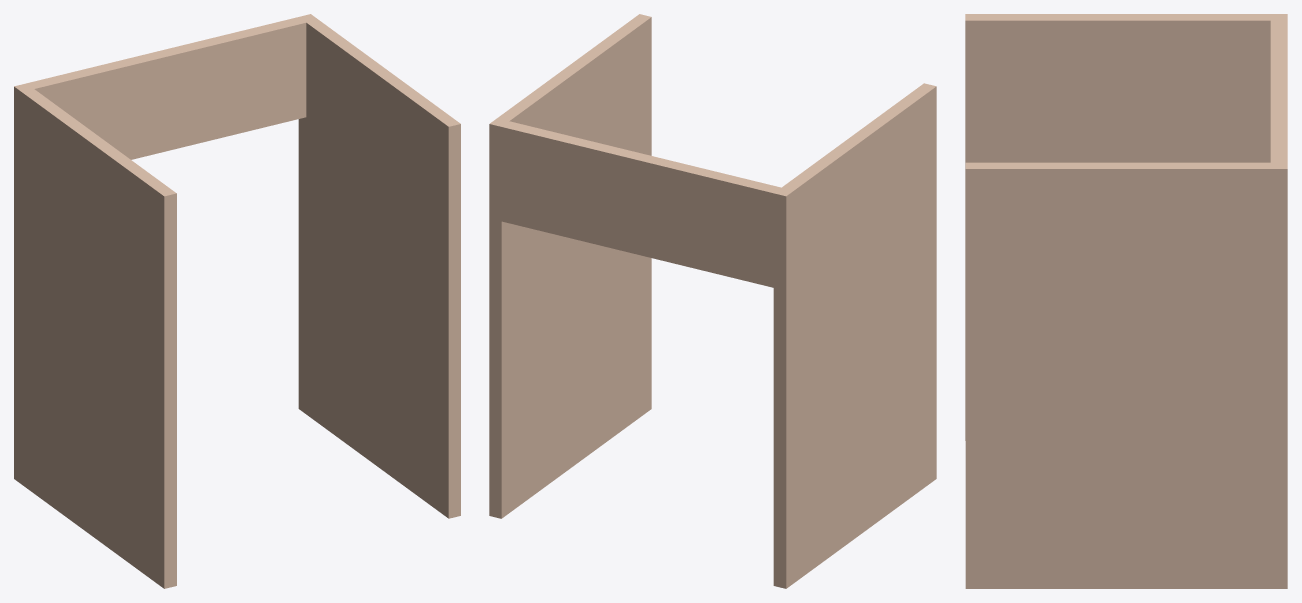
File: Schacht.fbx
3 views of the same model, side by side, from view 1: azimuth 30°, elevation 25°; view 2: azimuth 150°, elevation 25°; view 3: azimuth 270°, elevation 25° (orthographic). The views are drawn at different scales.
Visible parts, largest first — view 1: Schacht; view 2: Schacht; view 3: Schacht.
Boxes of the visible parts, <box> form: Schacht: <box>14,14,460,588</box>; Schacht: <box>489,14,936,588</box>; Schacht: <box>965,14,1287,588</box>.
Bounding box in the file's own units: 237 × 300 × 208.
